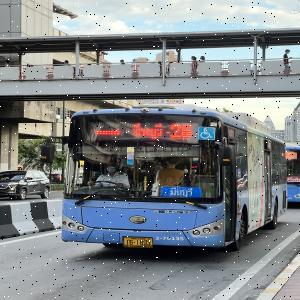BMTA-bus: (60, 108, 287, 251), (285, 141, 300, 207)
Bus Line Number: (168, 120, 196, 141), (286, 151, 297, 160)
Bus Side Number: (153, 234, 186, 242)
Destination Sign: (161, 186, 201, 198), (286, 176, 300, 183)
